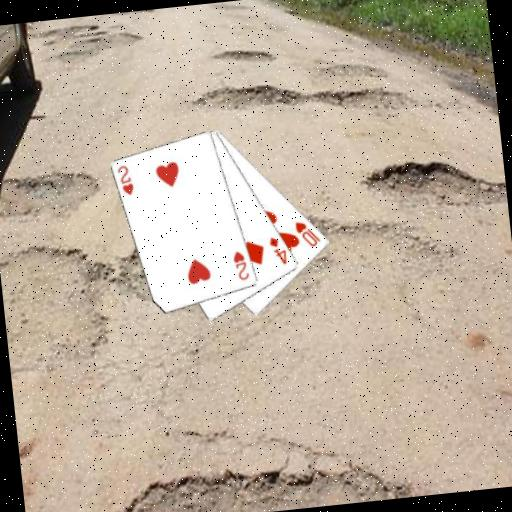10H: (292, 217, 324, 250)
2H: (114, 162, 136, 199), (230, 247, 252, 283)
4D: (266, 233, 289, 267)
